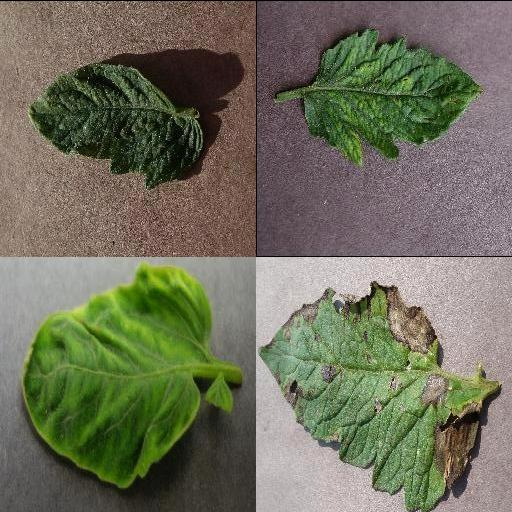Late Blight: (256, 280, 483, 512)
Mosaic Virus: (301, 29, 481, 165)
Spider Mites: (26, 64, 202, 186)
Yellow Leaf Curl Virus: (20, 263, 214, 487)
